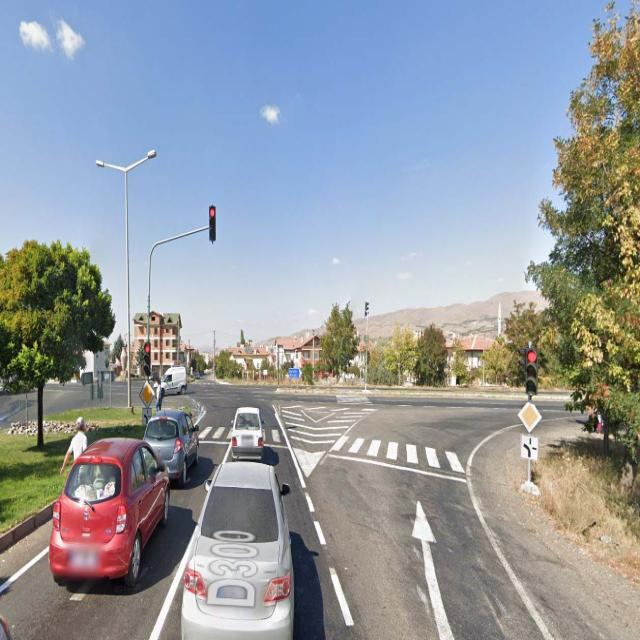kirmizi: (527, 346, 537, 395), (209, 204, 216, 240), (145, 340, 151, 374)
